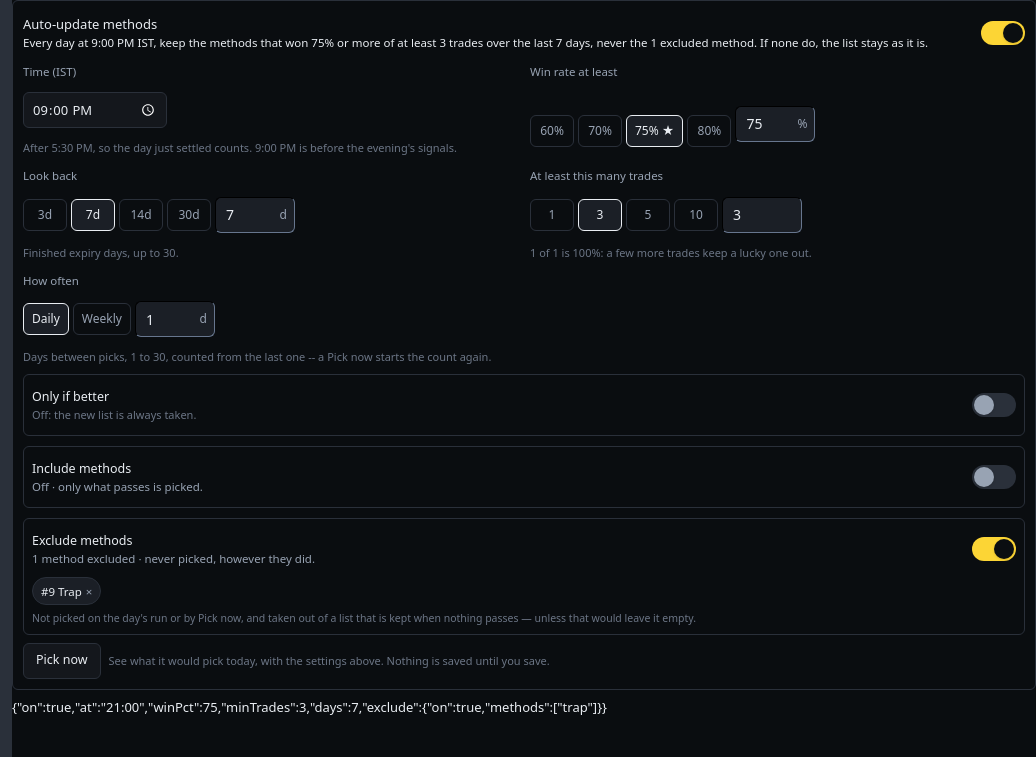
Test: Exclude, in the methods' daily update (18 Oct 2026) › "Pick now" names the excluded ones that passed and were left out
Click the button "Pick now": (62, 661) [23, 643, 101, 679]
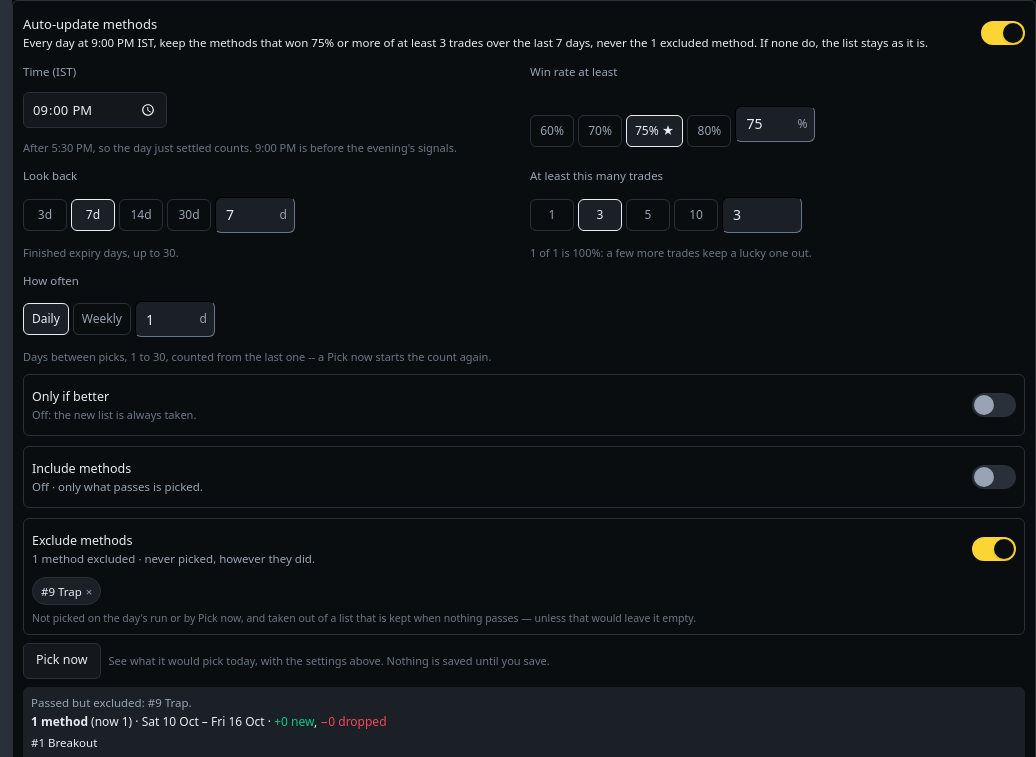
Now the text named "Left out, excluded" reads "Passed but excluded: #9 Trap.", box [31, 695, 192, 710]
